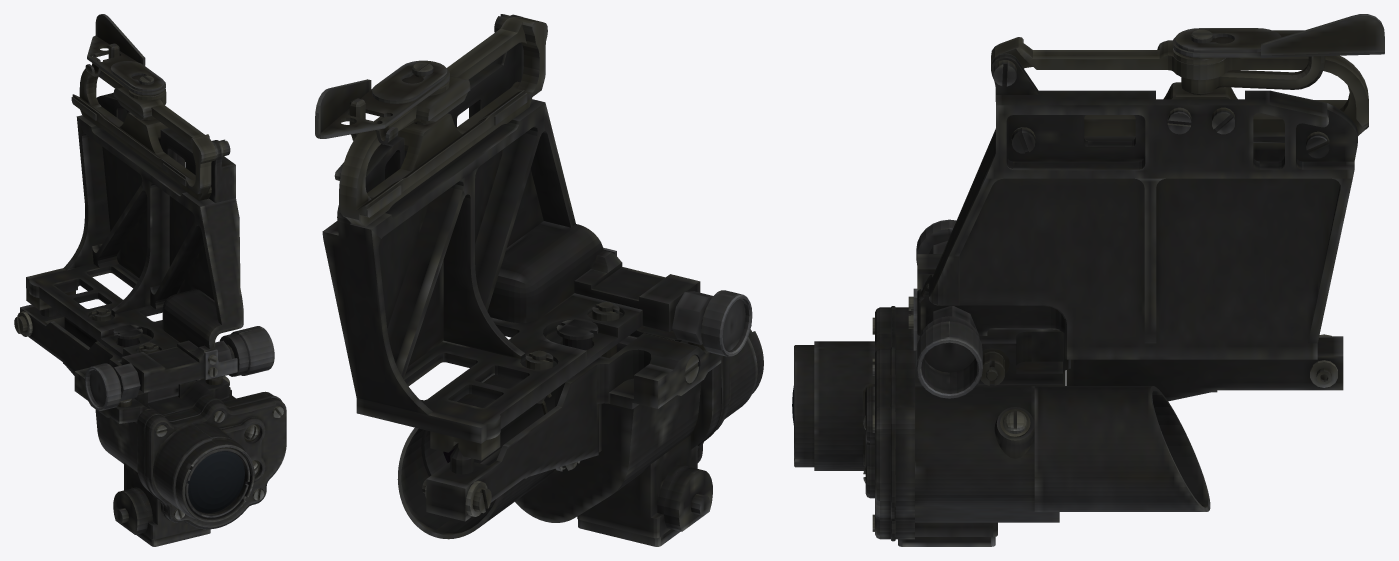
3 views of the same model, side by side, from view 1: azimuth 30°, elevation 25°; view 2: azimuth 150°, elevation 25°; view 3: azimuth 270°, elevation 25° (orthographic). The views are drawn at different scales.
Parts seen in each view (by area): view 1: TW_5cf638cbd7f00c06595bc936_PZ_Import; view 2: TW_5cf638cbd7f00c06595bc936_PZ_Import; view 3: TW_5cf638cbd7f00c06595bc936_PZ_Import.
Boxes of the visible parts, left/top/right/bottom form: TW_5cf638cbd7f00c06595bc936_PZ_Import: left=14, top=14, right=286, bottom=546; TW_5cf638cbd7f00c06595bc936_PZ_Import: left=315, top=14, right=763, bottom=546; TW_5cf638cbd7f00c06595bc936_PZ_Import: left=792, top=14, right=1384, bottom=546.
Size of the model in its own units: 0.0459 by 0.0952 by 0.1009.
1 material, 1 textured.
